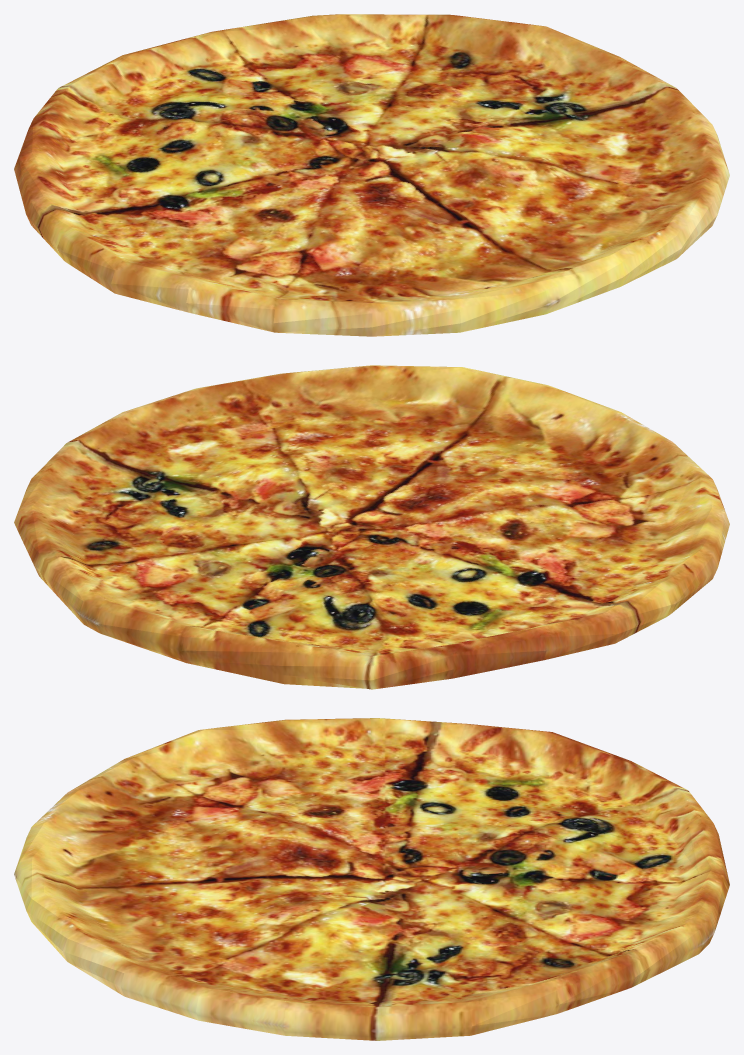
The model's file is veggies_3.glb.
3 views of the same model, one above another, from view 1: azimuth 30°, elevation 25°; view 2: azimuth 150°, elevation 25°; view 3: azimuth 270°, elevation 25° (orthographic).
Visible parts, largest first — view 1: Material2.001; view 2: Material2.001; view 3: Material2.001.
Part boxes in pixels (bbox=[...]): Material2.001: bbox=[14, 14, 729, 336]; Material2.001: bbox=[14, 365, 729, 689]; Material2.001: bbox=[14, 718, 729, 1040].
Bounding box in the file's own units: 1.25 × 0.0766 × 1.24.
Materials: 1 (1 with a texture image).
